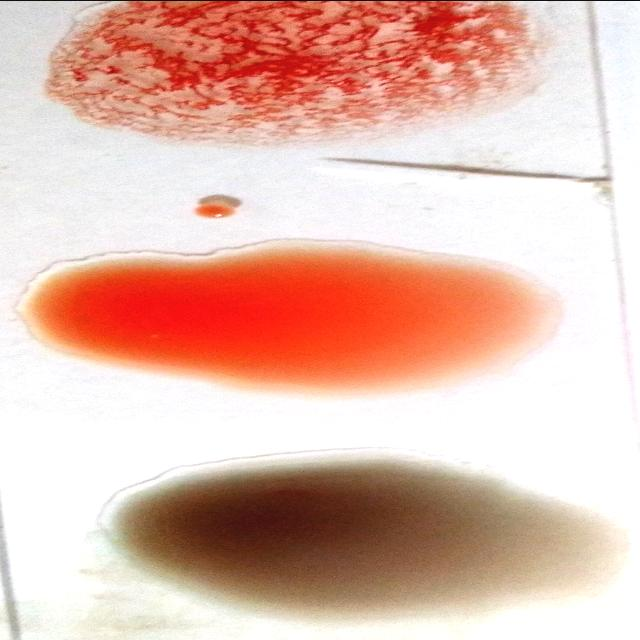D: (51, 0, 544, 139)
